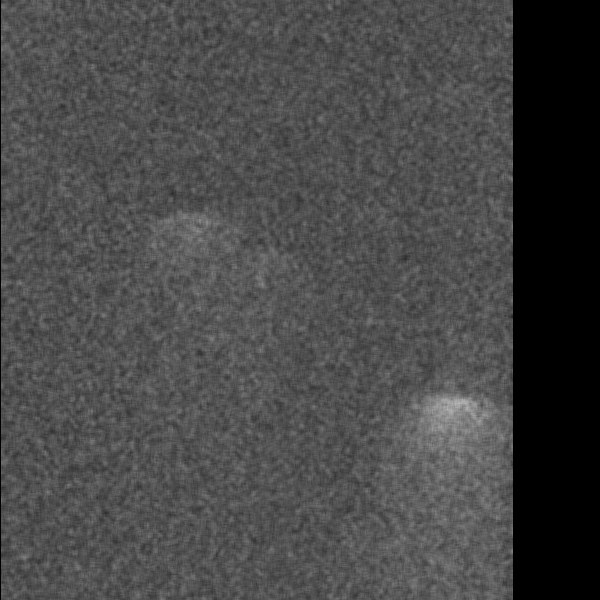spark: (132, 209, 235, 296), (415, 384, 504, 468)
